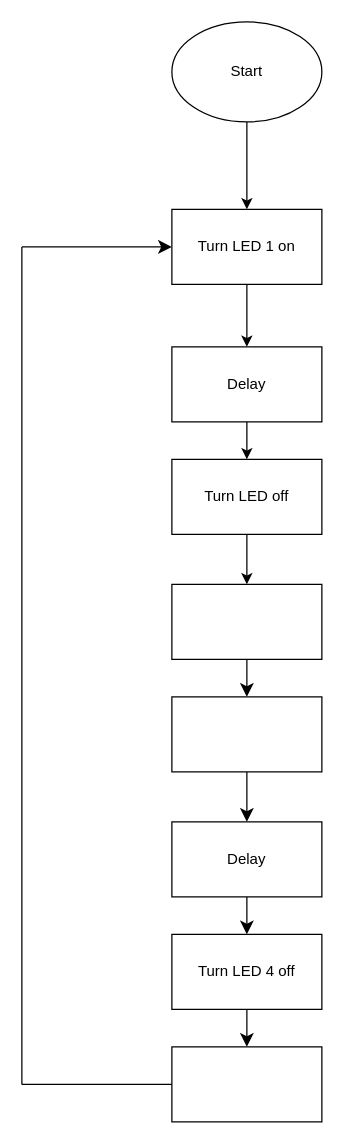
Some shapes in this 344 by 1144 pixel diagram are drawn without their labels. The centre of each missing label's shape, as x and y in pixels:
"Repeat for LED 2 through 5" goes at [246,621].
"Repeat for LED 3 and 2" goes at [246,1084].
"Turn LED 4 on" goes at [246,734].
